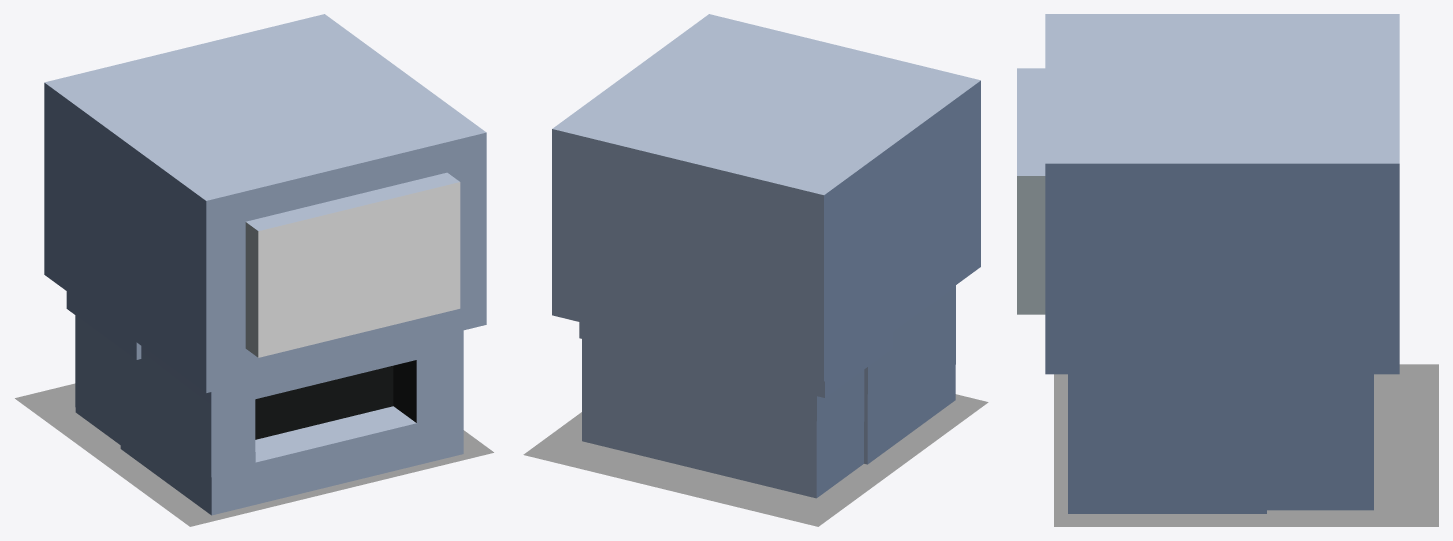
Rendered from EN_TinyBit_Metal.fbx.
3 views of the same model, side by side, from view 1: azimuth 30°, elevation 25°; view 2: azimuth 150°, elevation 25°; view 3: azimuth 270°, elevation 25° (orthographic). The views are drawn at different scales.
Parts seen in each view (by area): view 1: Helmet, Body, Eye, Mouth, Shadow; view 2: Helmet, Body, Shadow; view 3: Helmet, Body, Shadow, Eye.
Part boxes in pixels (box(x1,y1,x2,y2)): Helmet: box(44, 14, 486, 393); Body: box(66, 291, 463, 515); Eye: box(245, 172, 460, 357); Mouth: box(255, 406, 416, 504); Shadow: box(15, 383, 493, 526); Helmet: box(552, 14, 980, 381); Body: box(579, 285, 955, 498); Shadow: box(523, 394, 988, 526); Helmet: box(1045, 14, 1399, 374); Body: box(1068, 374, 1373, 513); Shadow: box(1054, 364, 1438, 526); Eye: box(1017, 68, 1045, 314).
Size of the model in its own units: 37.73 by 38.6 by 41.36.
